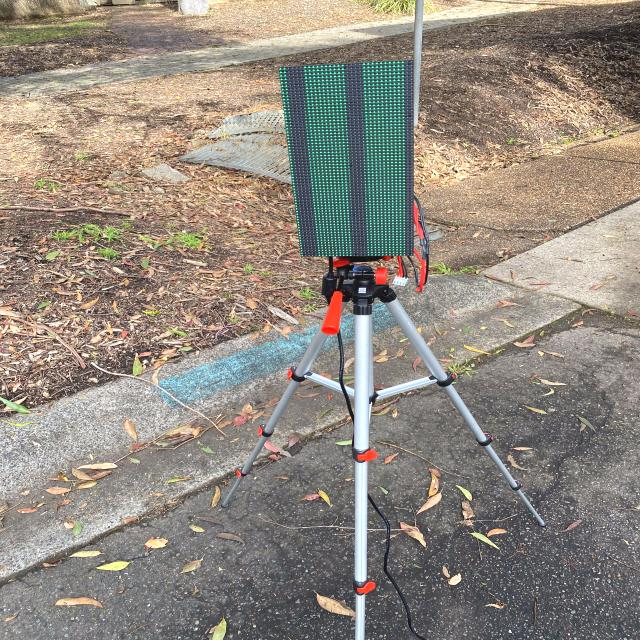matrix: (269, 60, 425, 268)
